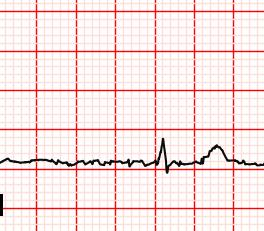Poor R Progression: (153, 132, 172, 173)
